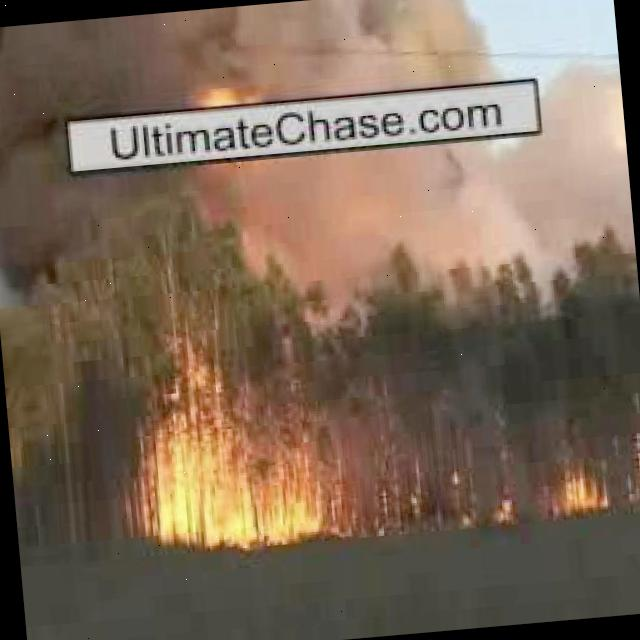fire: (122, 347, 350, 560), (354, 457, 481, 545), (544, 467, 614, 516), (202, 83, 256, 107), (628, 432, 640, 511), (496, 495, 516, 527)
